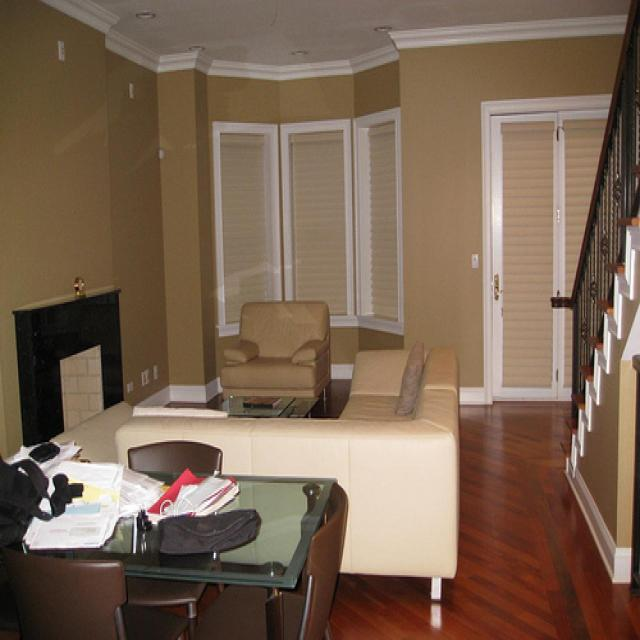chair: (127, 440, 225, 638), (218, 299, 332, 398), (279, 483, 348, 640), (3, 563, 126, 635)
dining table: (63, 473, 336, 595)
